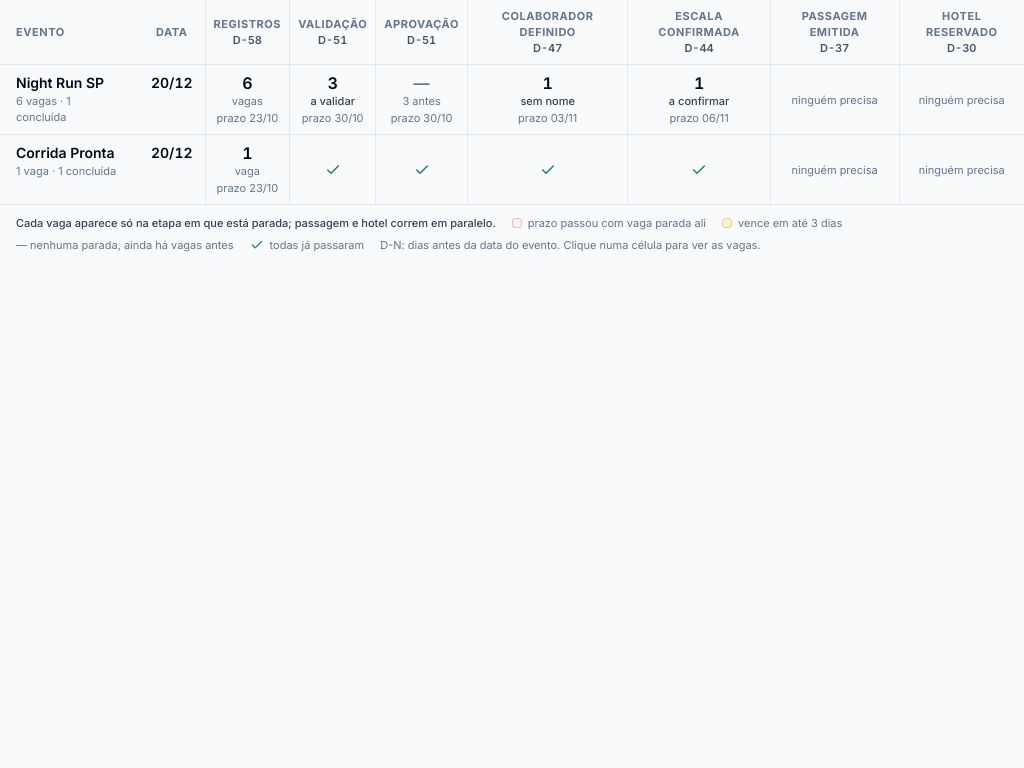
Test case: Quadro de prazos — detalhe da célula › célula sem pendência: modal vazio com “Nada pendente nesta etapa”
The width and height of the screenshot is (1024, 768).
Click the button named "concluída": {"x": 333, "y": 170} [290,135,375,204]
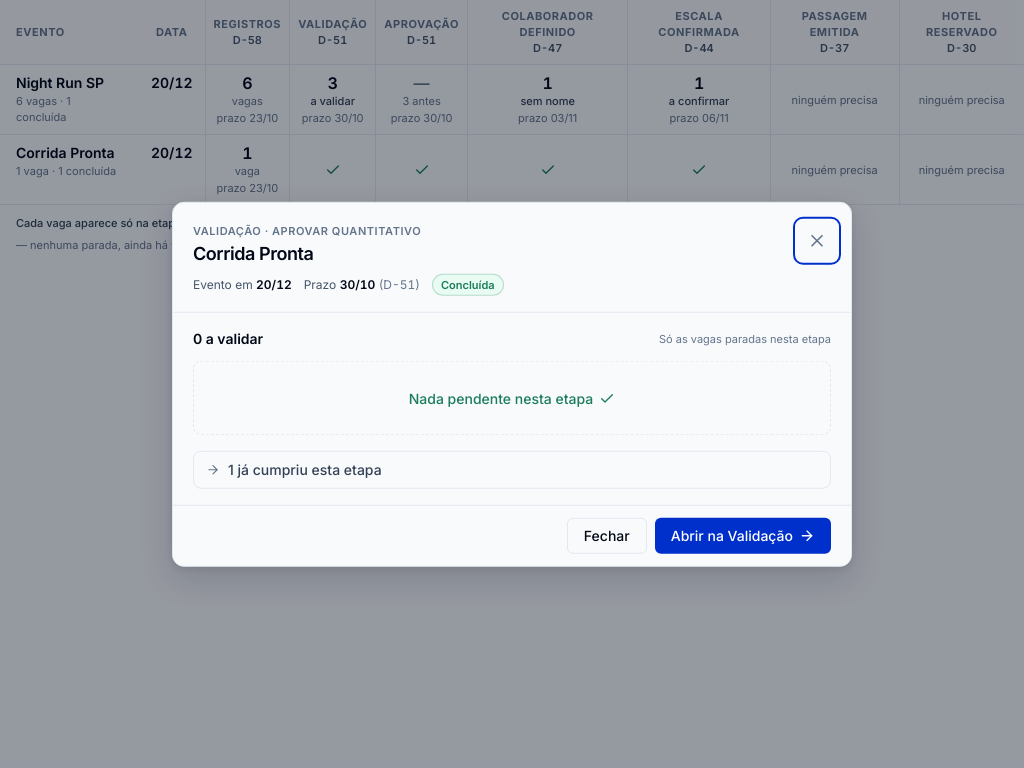
Result: the element with test id "detalhe-vazio" reads "Nada pendente nesta etapa" at [409,389,593,406]
Result: the text with test id "detalhe-situacao" reads "Concluída" at [441,277,495,291]
